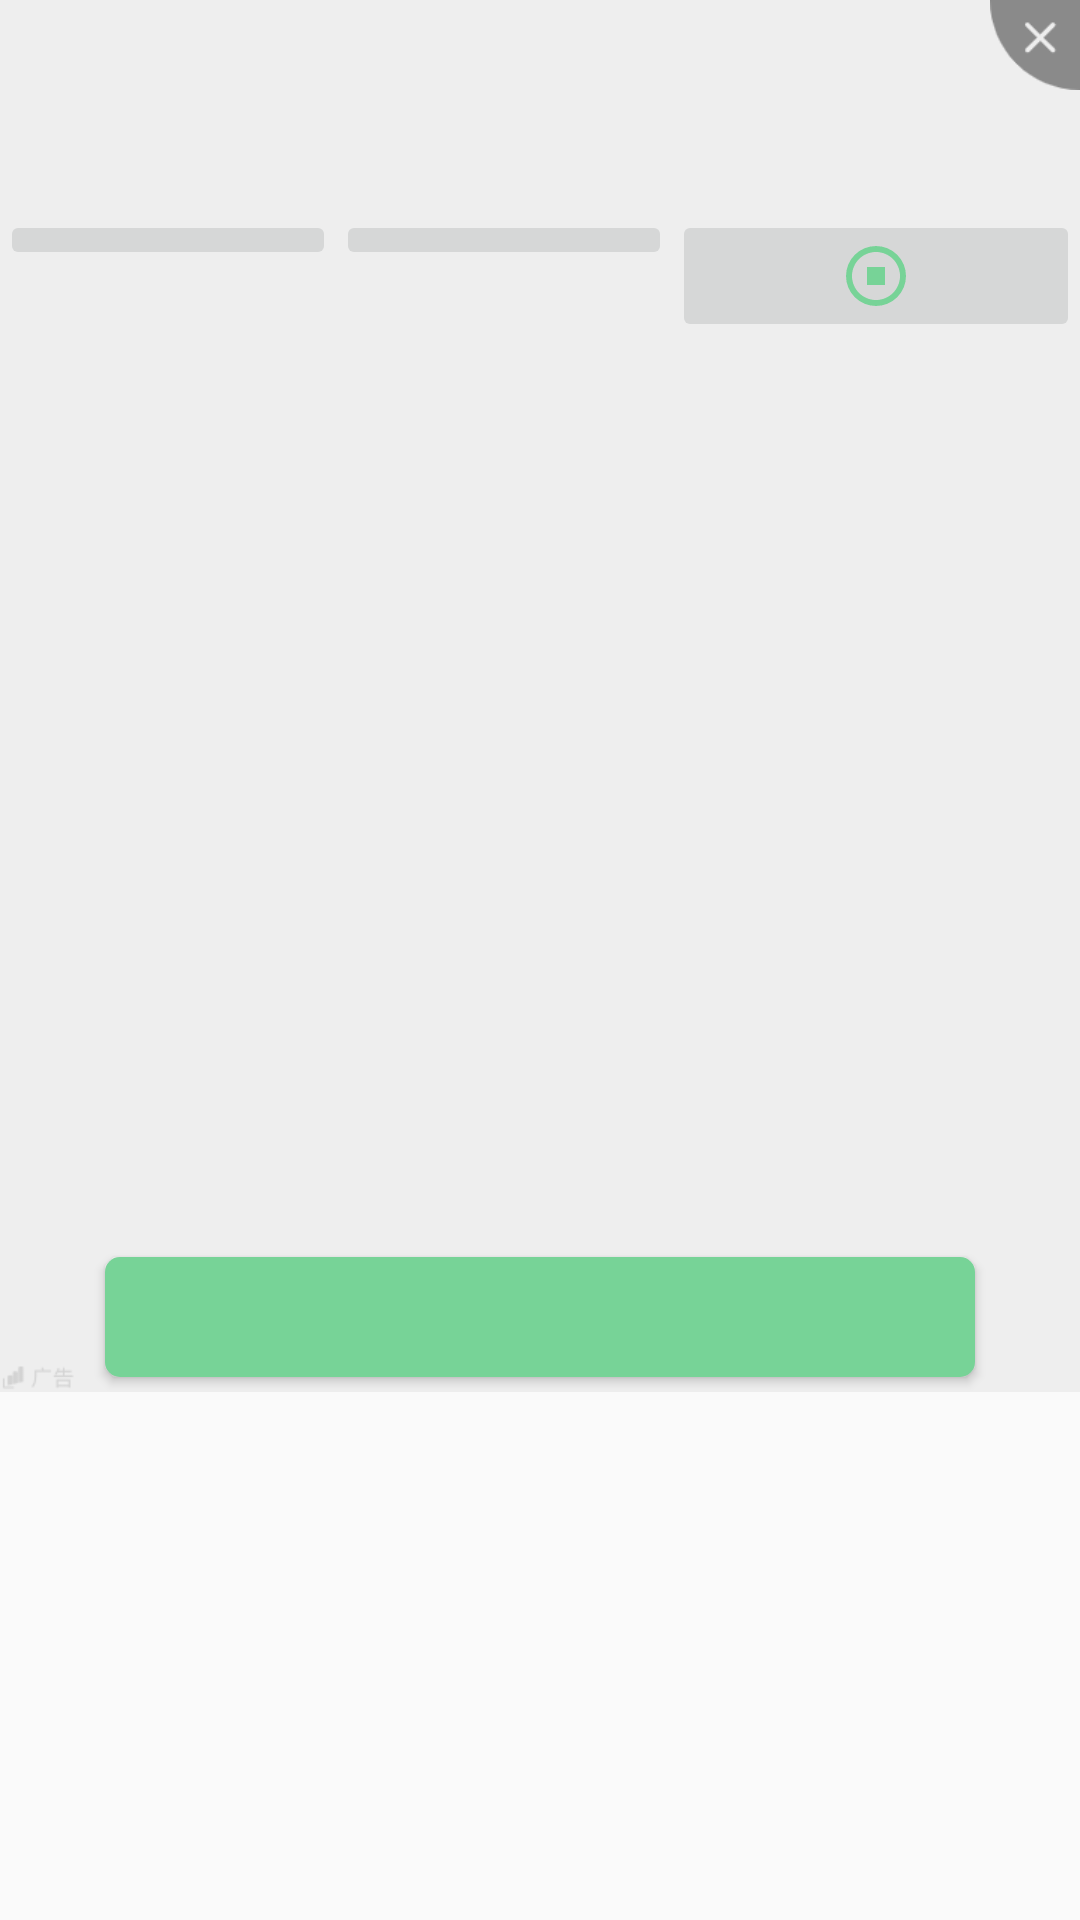

Icon bounding boxes for this 1080x1920 phone screenshot, format [x1,y1,x2,y2]:
close: [990,0,1080,90]
